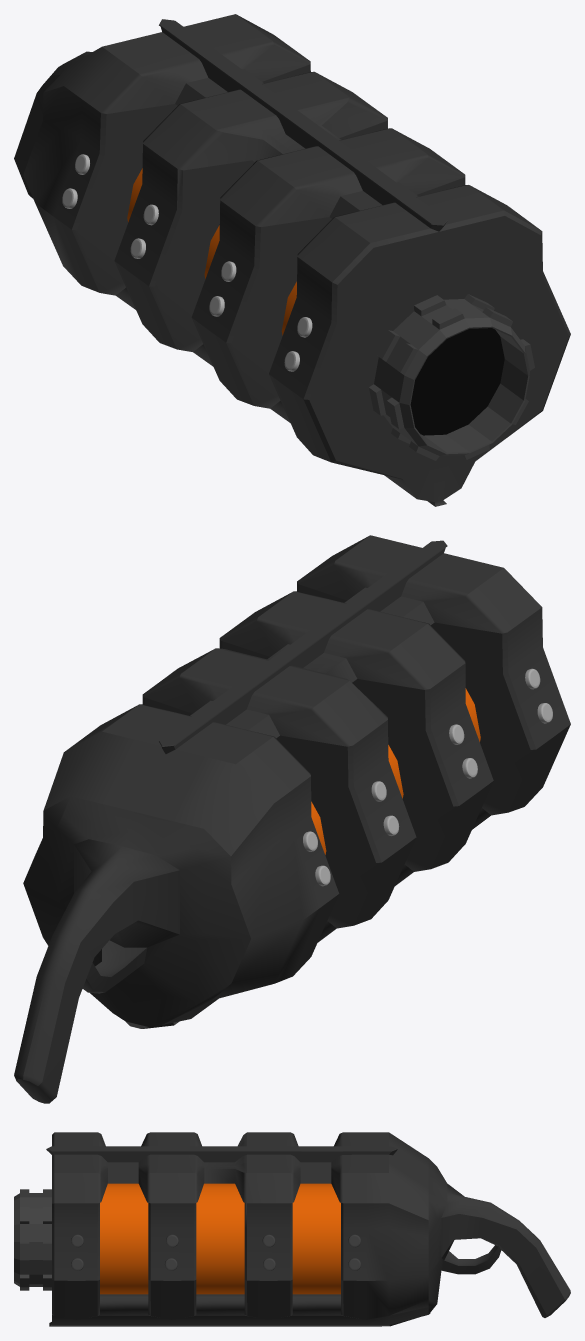
File: Gun_Blaster.fbx
3 views of the same model, one above another, from view 1: azimuth 30°, elevation 25°; view 2: azimuth 150°, elevation 25°; view 3: azimuth 270°, elevation 25° (orthographic). The views are drawn at different scales.
Parts seen in each view (by area): view 1: GunFrame, GunMouth, GunMouth_D, GunPipe; view 2: GunFrame, GunPipe; view 3: GunFrame, GunPipe, GunMouth.
Boxes of the visible parts, <box> form: GunFrame: <box>14,14,570,506</box>; GunMouth: <box>369,294,534,460</box>; GunMouth_D: <box>410,328,504,435</box>; GunPipe: <box>127,168,296,335</box>; GunFrame: <box>14,535,570,1103</box>; GunPipe: <box>311,688,480,854</box>; GunFrame: <box>46,1132,570,1326</box>; GunPipe: <box>100,1183,340,1294</box>; GunMouth: <box>14,1189,51,1290</box>.
Size of the model in its own units: 0.5 by 0.5043 by 1.45.
